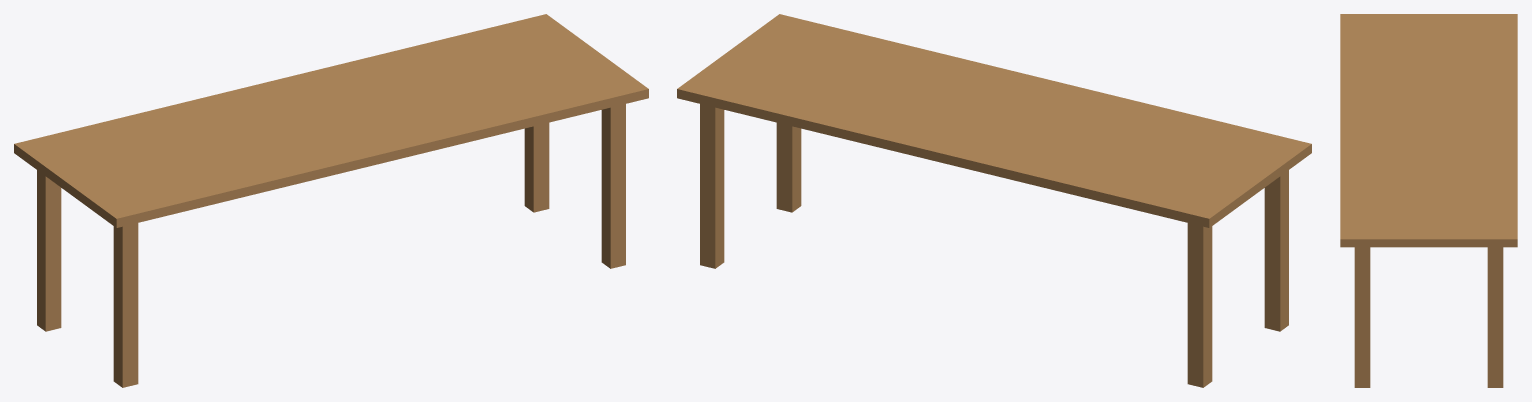
3 renders of one model, left to right at view 1: azimuth 30°, elevation 25°; view 2: azimuth 150°, elevation 25°; view 3: azimuth 270°, elevation 25°, orthographic. The views are drawn at different scales.
Visible parts, largest first — view 1: mostrador; view 2: mostrador; view 3: mostrador.
Part boxes in pixels (x1,y1,x2,y2): mostrador: (14,14,648,387); mostrador: (677,14,1311,387); mostrador: (1340,14,1517,387).
Size of the model in its own units: 2.4 by 0.8 by 0.77.
